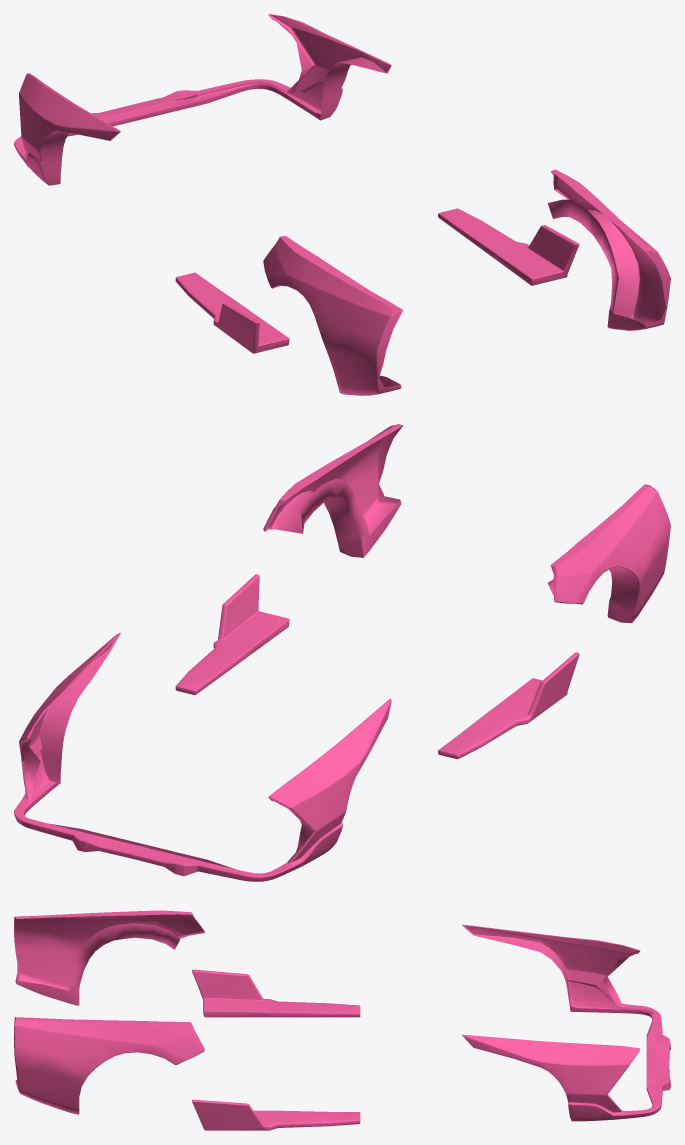
Rendered from BTF5891_Bodykit_LOD0.fbx.
3 views of the same model, one above another, from view 1: azimuth 30°, elevation 25°; view 2: azimuth 150°, elevation 25°; view 3: azimuth 270°, elevation 25° (orthographic). The views are drawn at different scales.
Parts seen in each view (by area): view 1: SM_BTF5891_Bodykit_LOD0; view 2: SM_BTF5891_Bodykit_LOD0; view 3: SM_BTF5891_Bodykit_LOD0.
Boxes of the visible parts, x1,y1,x2,y2 form: SM_BTF5891_Bodykit_LOD0: [14, 14, 670, 395]; SM_BTF5891_Bodykit_LOD0: [14, 424, 670, 881]; SM_BTF5891_Bodykit_LOD0: [14, 910, 670, 1130].
Size of the model in its own units: 1.98 by 4.17 by 0.7041.
